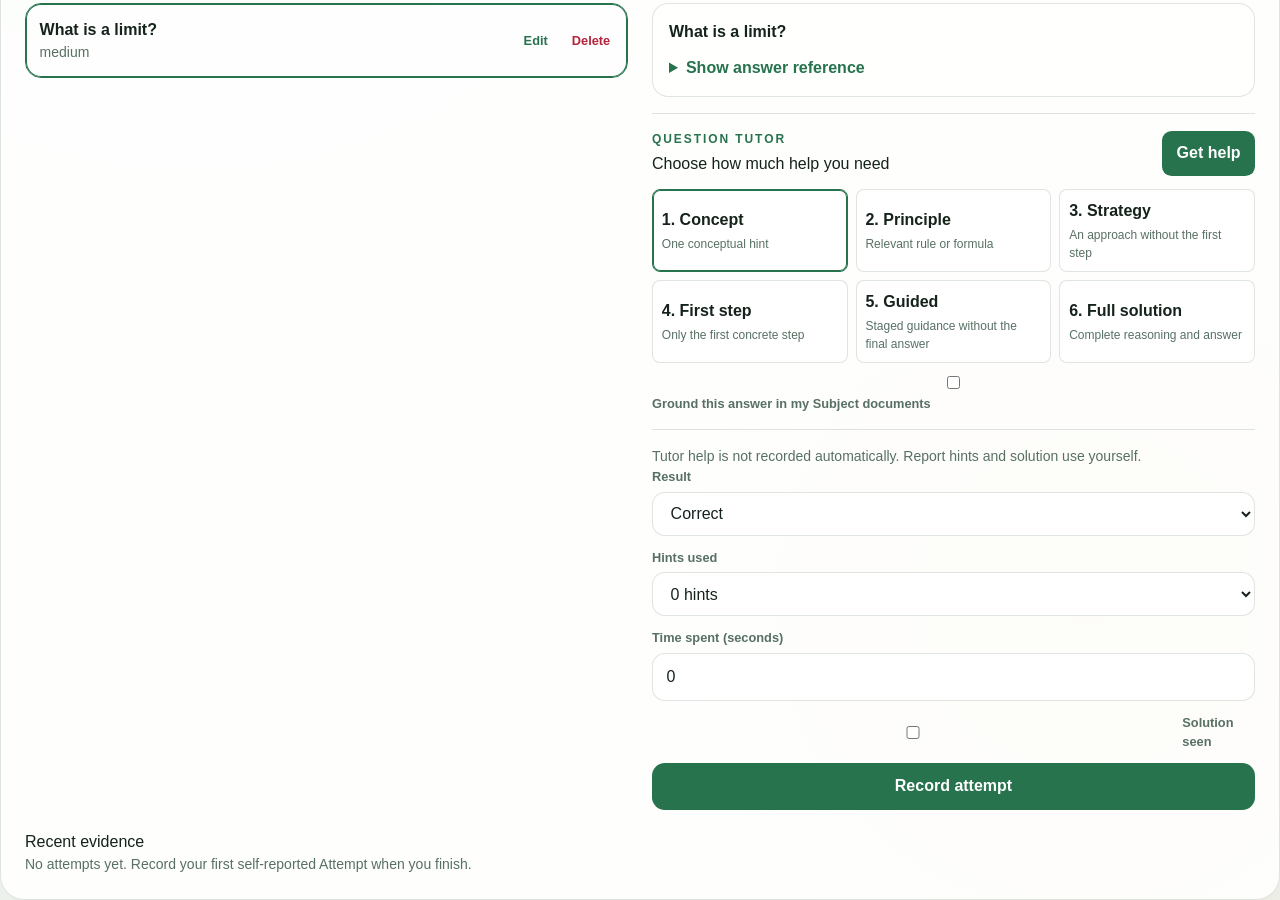
Test case: PracticeManager › does not let an older Attempt history read overwrite a successful write
(page scrolled)
Check: the heading "Show answer reference" is shown, box 686,60 -> 865,76
Click the button "Record attempt". click: x=954, y=786
box: 652,763 -> 1255,810
(page scrolled)
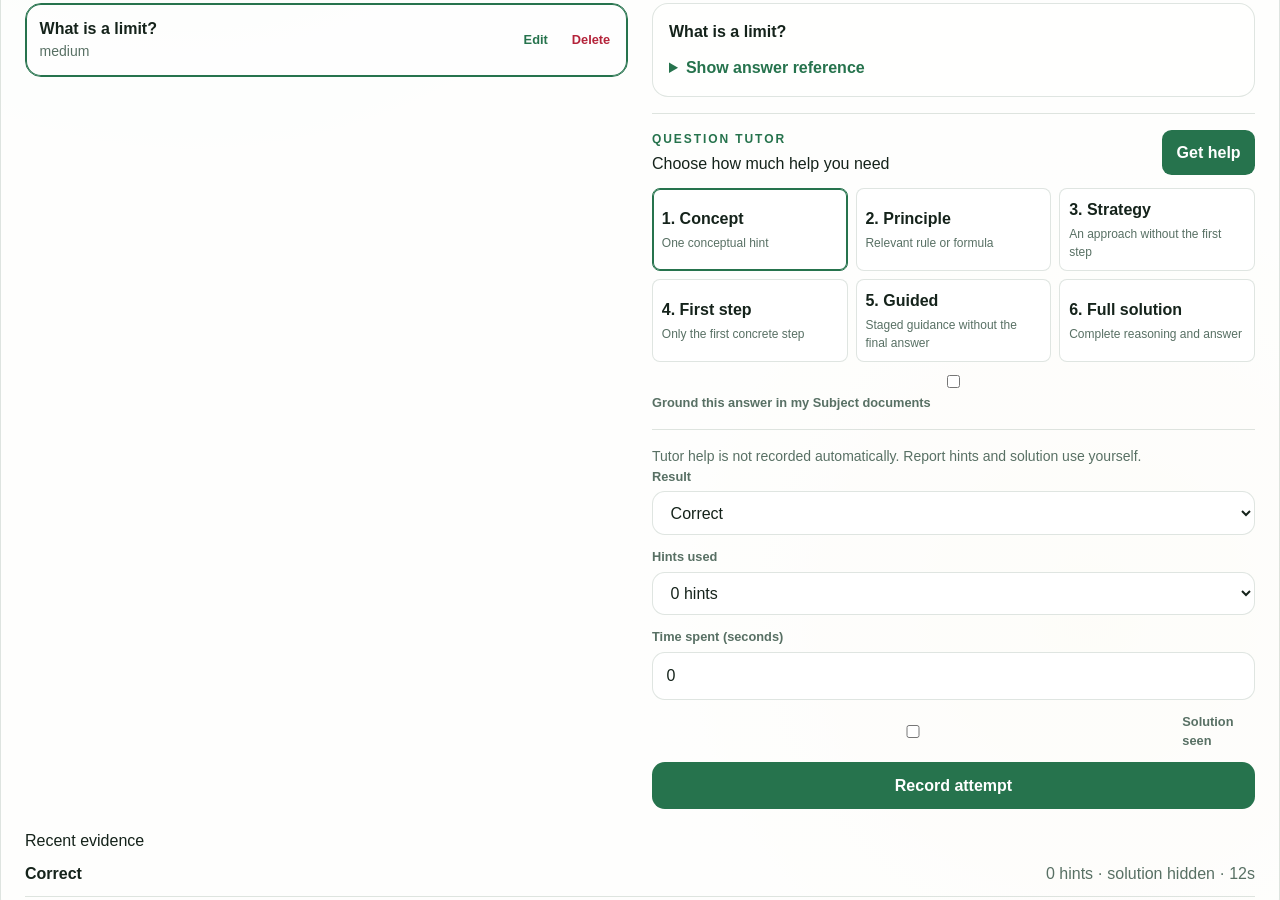
Check: the text "0 hints · solution hidden · 12s" is shown, box 1046,862 -> 1255,886
